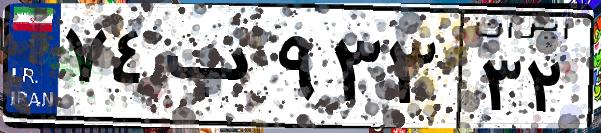2: (525, 38, 570, 115)
3: (385, 28, 445, 110), (330, 28, 385, 110), (475, 38, 525, 113)
4: (110, 28, 158, 98)
7: (57, 26, 110, 100)
9: (270, 28, 330, 110)
ب: (158, 20, 270, 120)
